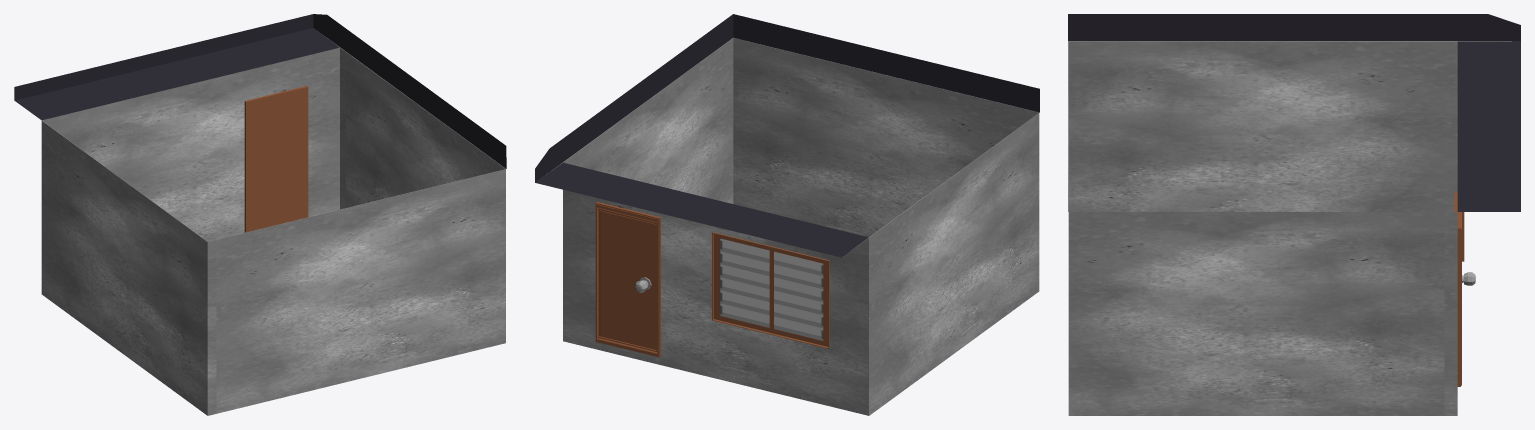
The model's file is building7.fbx.
3 views of the same model, side by side, from view 1: azimuth 30°, elevation 25°; view 2: azimuth 150°, elevation 25°; view 3: azimuth 270°, elevation 25° (orthographic). The views are drawn at different scales.
Parts seen in each view (by area): view 1: building7, Door corners.002; view 2: building7, Window.001, Door corners.002; view 3: building7, Door corners.002.
Boxes of the visible parts, left/top/right/bottom form: building7: left=14, top=14, right=506, bottom=415; Door corners.002: left=244, top=86, right=308, bottom=232; building7: left=535, top=14, right=1039, bottom=415; Window.001: left=712, top=232, right=829, bottom=348; Door corners.002: left=595, top=202, right=660, bottom=357; building7: left=1068, top=14, right=1520, bottom=415; Door corners.002: left=1454, top=192, right=1461, bottom=386.
Bounding box in the file's own units: 8.51 × 5.37 × 9.52.
Materials: 5 (2 with a texture image).
